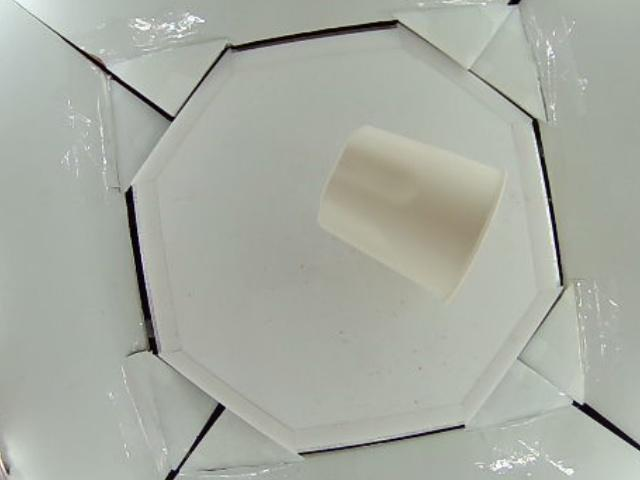Cup: (316, 125, 506, 301)
